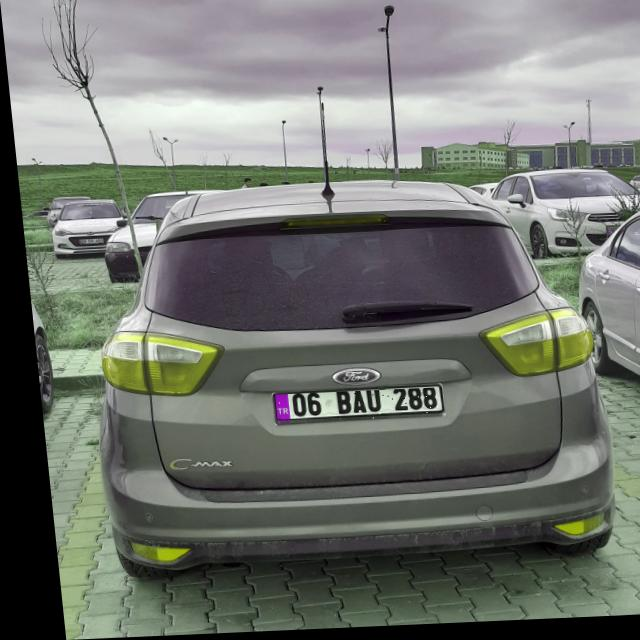license_plate: (265, 392, 435, 425)
